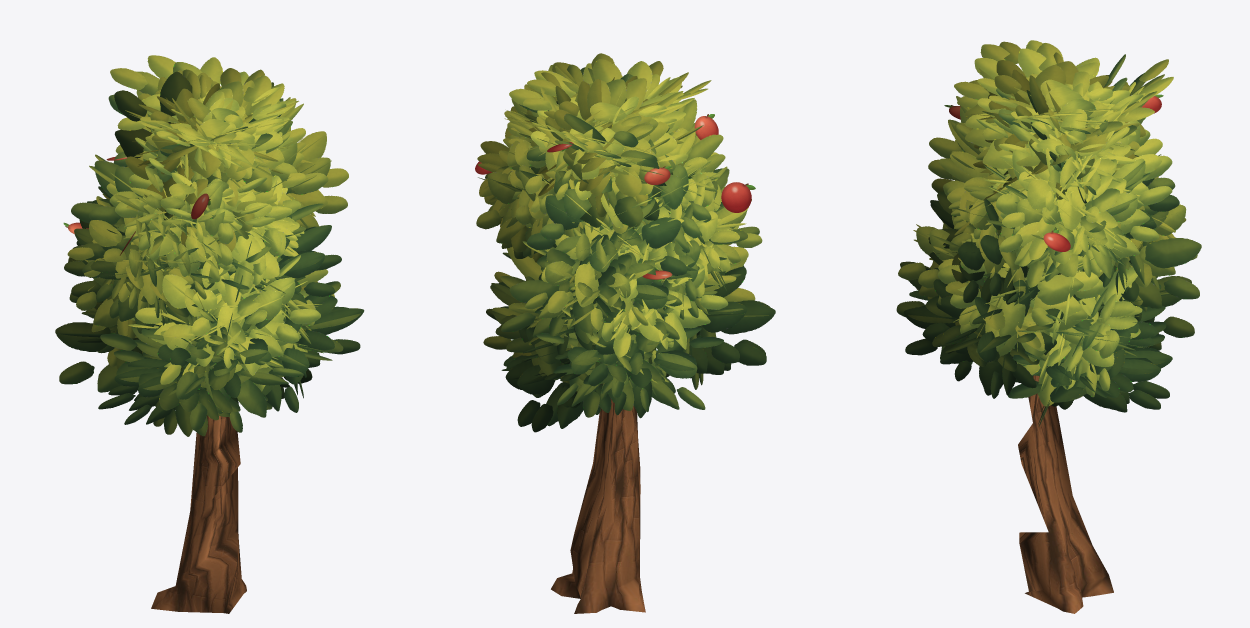
The model's file is tree_fruit_far.glb.
3 renders of one model, left to right at view 1: azimuth 30°, elevation 25°; view 2: azimuth 150°, elevation 25°; view 3: azimuth 270°, elevation 25°, orthographic.
Visible parts, largest first — view 1: Canopy, tree_fruit_far; view 2: Canopy, tree_fruit_far; view 3: Canopy, tree_fruit_far.
Boxes of the visible parts, bbox=[...] form: Canopy: bbox=[55, 55, 364, 436]; tree_fruit_far: bbox=[151, 415, 246, 613]; Canopy: bbox=[475, 53, 775, 432]; tree_fruit_far: bbox=[551, 384, 645, 613]; Canopy: bbox=[896, 40, 1201, 426]; tree_fruit_far: bbox=[1018, 375, 1113, 613].
Bounding box in the file's own units: 1.24 × 1.9 × 1.24.
3 materials, 3 textured.
